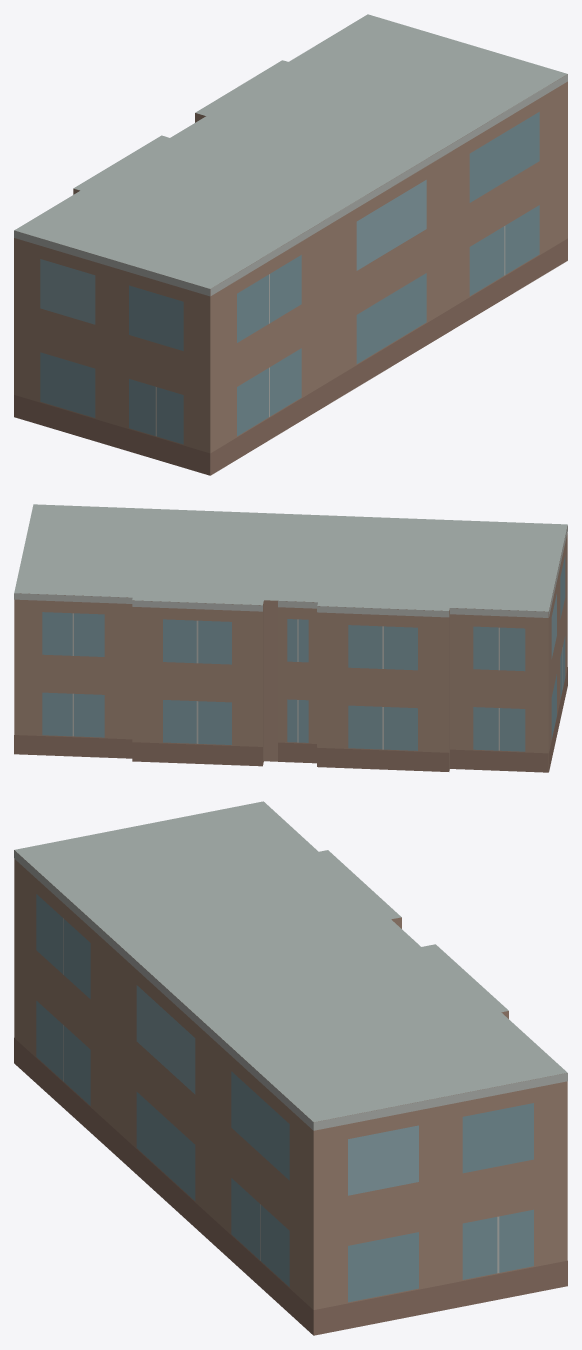
The model's file is survey-upis-32705146.glb.
3 views of the same model, one above another, from view 1: azimuth 30°, elevation 25°; view 2: azimuth 150°, elevation 25°; view 3: azimuth 270°, elevation 25° (orthographic). The views are drawn at different scales.
Parts seen in each view (by area): view 1: survey-upis-32705146.tmp; view 2: survey-upis-32705146.tmp; view 3: survey-upis-32705146.tmp.
Boxes of the visible parts, box(x1,y1,x2,y2) form: survey-upis-32705146.tmp: box(14, 14, 567, 475); survey-upis-32705146.tmp: box(14, 504, 567, 772); survey-upis-32705146.tmp: box(14, 801, 567, 1335).
Bounding box in the file's own units: 19.69 × 6.1 × 14.36.
